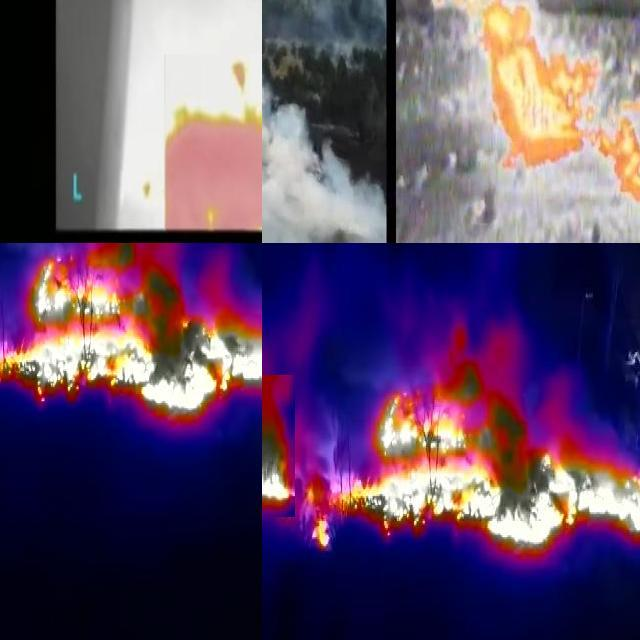fire: (343, 374, 640, 550), (1, 244, 263, 416), (478, 1, 605, 177), (164, 54, 263, 236), (601, 19, 640, 243), (263, 375, 295, 517), (303, 458, 339, 550)
